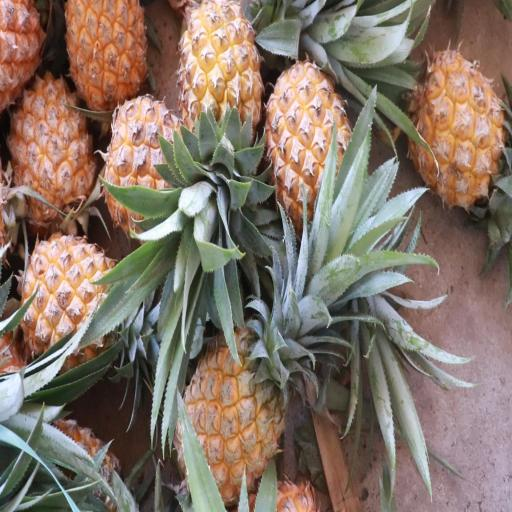Pineapple - v8 v1: (167, 314, 301, 508), (258, 53, 360, 240), (406, 36, 510, 217), (174, 2, 267, 199), (18, 228, 132, 386), (101, 90, 204, 260), (4, 66, 101, 242), (60, 0, 150, 130)
